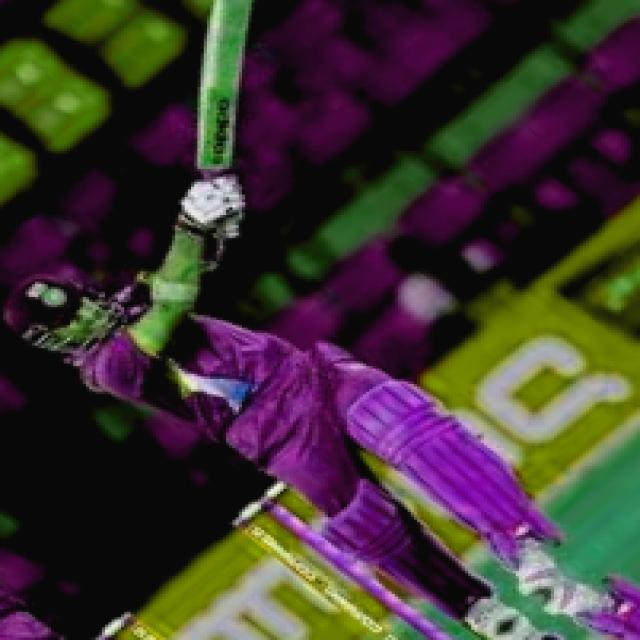toe: (205, 0, 253, 66)
